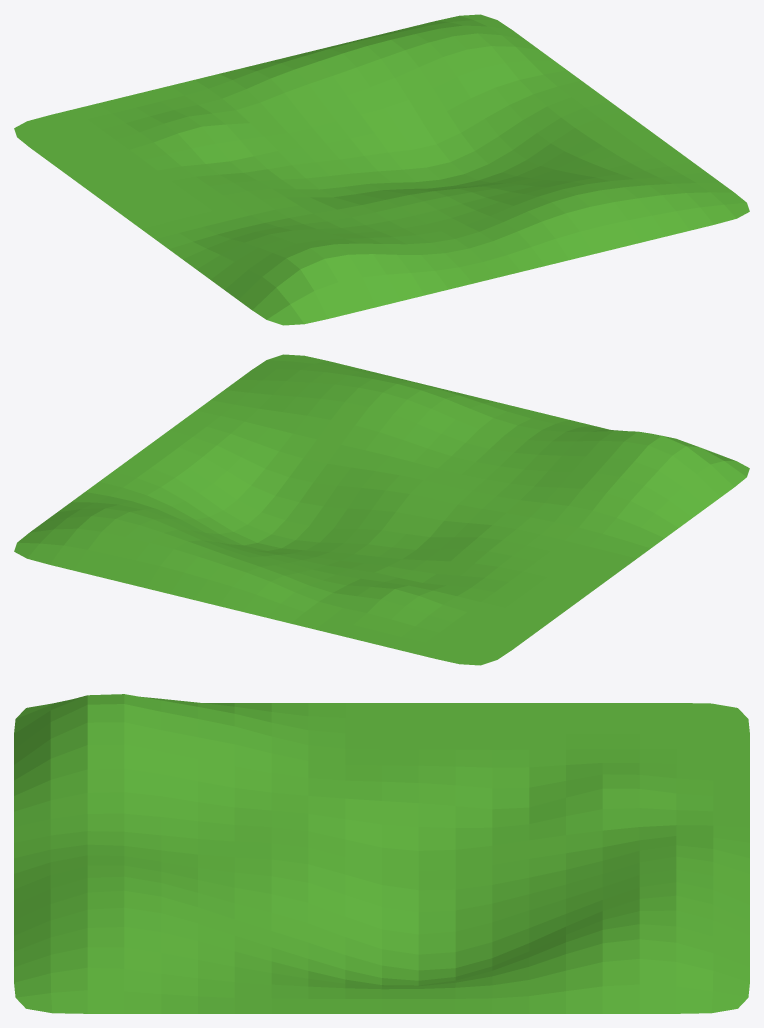
The model's file is kusa1.glb.
3 renders of one model, top to bottom at view 1: azimuth 30°, elevation 25°; view 2: azimuth 150°, elevation 25°; view 3: azimuth 270°, elevation 25°, orthographic. The views are drawn at different scales.
Parts seen in each view (by area): view 1: Plane; view 2: Plane; view 3: Plane.
Part boxes in pixels (left/top/right/bottom): Plane: left=14, top=14, right=749, bottom=325; Plane: left=14, top=354, right=749, bottom=665; Plane: left=14, top=694, right=749, bottom=1013.
Bounding box in the file's own units: 80 × 11.45 × 80.
